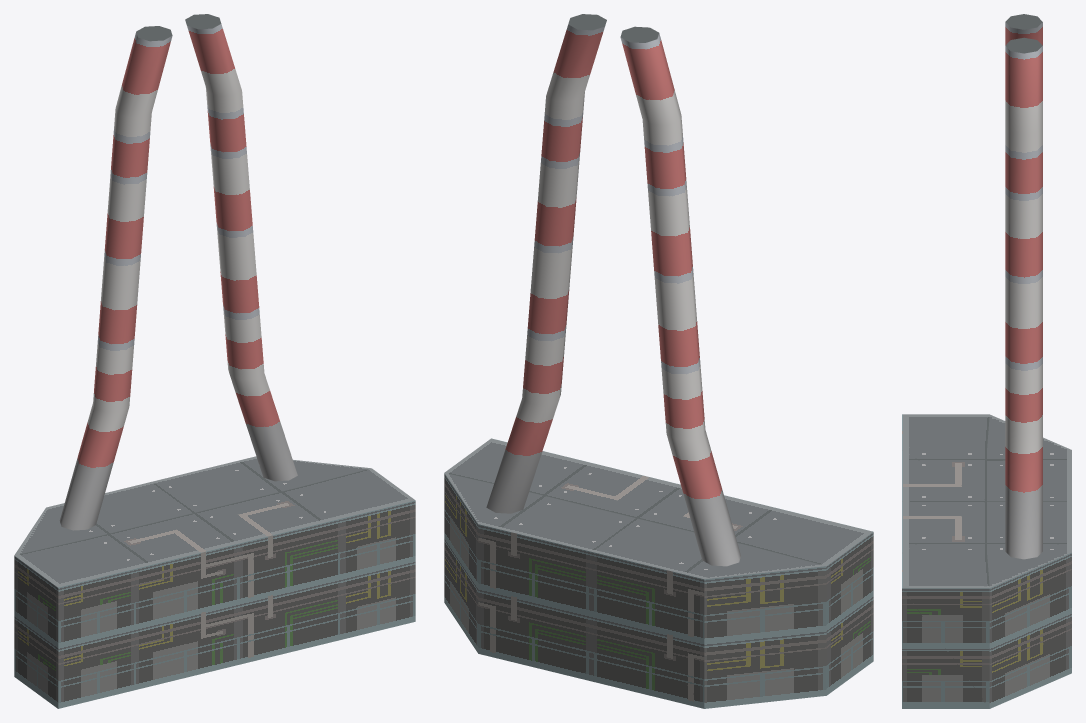
File: 055b_Factory.glb
The picture shows the model from 3 angles, left to right: view 1: azimuth 30°, elevation 25°; view 2: azimuth 150°, elevation 25°; view 3: azimuth 270°, elevation 25°; orthographic projection. The views are drawn at different scales.
Parts seen in each view (by area): view 1: part_0; view 2: part_0; view 3: part_0.
Part boxes in pixels (box(x1,y1,x2,y2)): part_0: box(14, 14, 415, 708); part_0: box(444, 14, 873, 708); part_0: box(902, 14, 1071, 708).
Size of the model in its own units: 16.81 by 26.59 by 6.94.
1 material, 1 textured.
